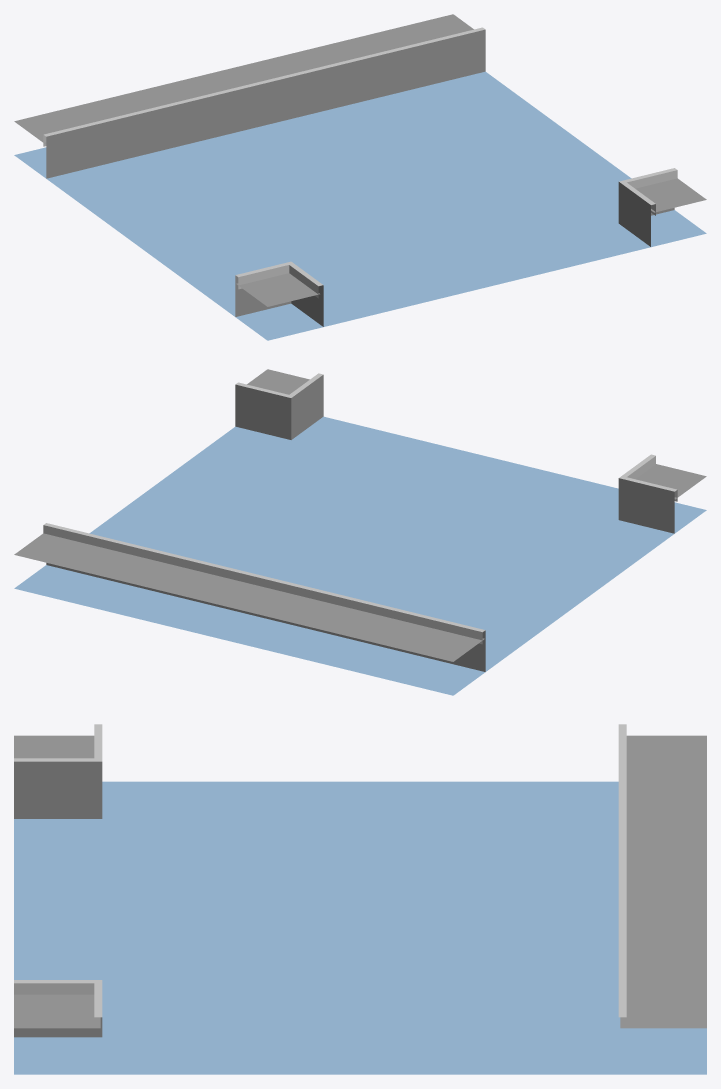
File: road_tile_river_2x2_006.glb
3 renders of one model, top to bottom at view 1: azimuth 30°, elevation 25°; view 2: azimuth 150°, elevation 25°; view 3: azimuth 270°, elevation 25°, orthographic. The views are drawn at different scales.
Visible parts, largest first — view 1: road_tile_river_2x2_006; view 2: road_tile_river_2x2_006; view 3: road_tile_river_2x2_006.
Part boxes in pixels (<box>): road_tile_river_2x2_006: <box>14,14,706,340</box>; road_tile_river_2x2_006: <box>14,369,706,695</box>; road_tile_river_2x2_006: <box>14,724,706,1074</box>.
Size of the model in its own units: 16 by 1.46 by 16.
1 material, 1 textured.
